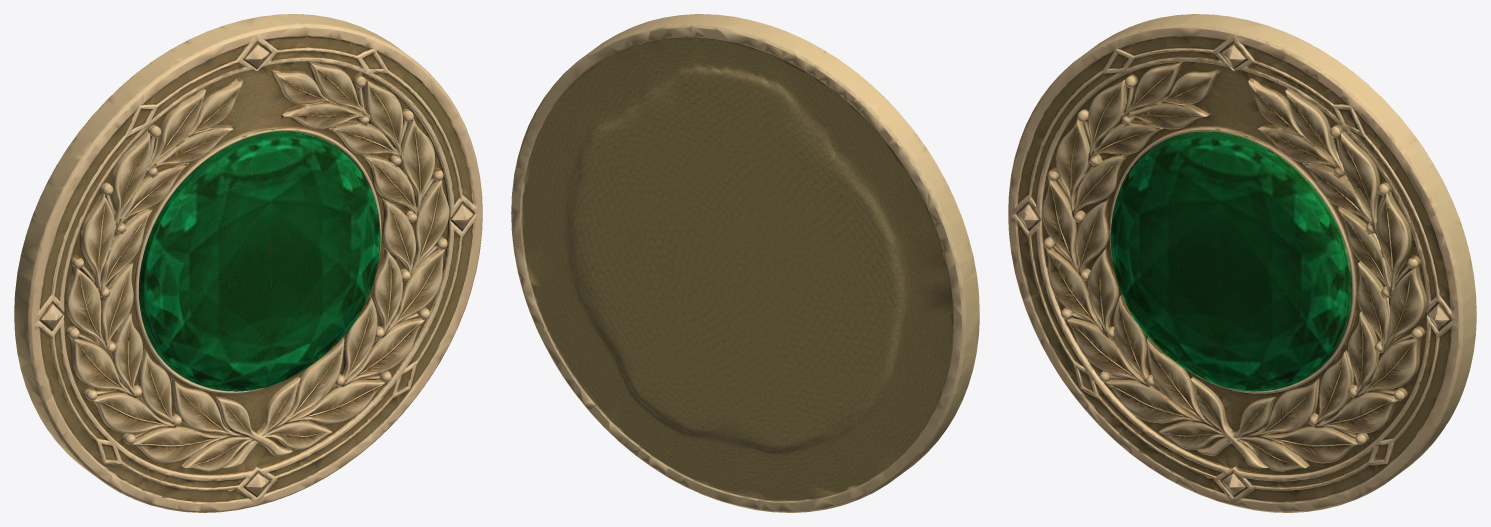
The model's file is medallion.glb.
The picture shows the model from 3 angles, left to right: view 1: azimuth 30°, elevation 25°; view 2: azimuth 150°, elevation 25°; view 3: azimuth 330°, elevation 25°; orthographic projection.
Size of the model in its own units: 1.9 by 1.9 by 0.2301.
1 material, 1 textured.
